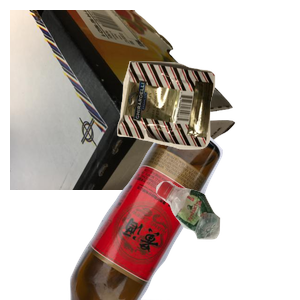cardboard: (10, 10, 238, 190)
glass: (67, 120, 282, 300)
plastic: (153, 178, 300, 300)
trash: (115, 58, 300, 200)
